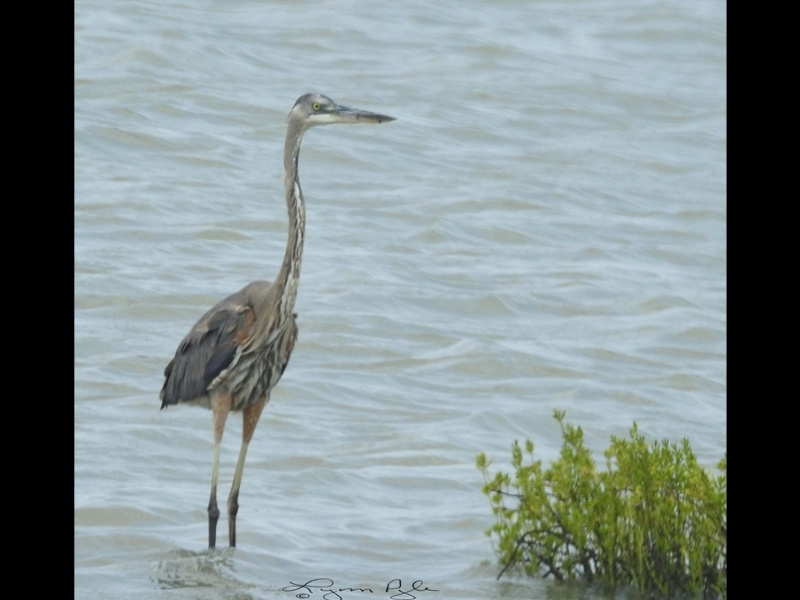heron: (150, 84, 403, 561)
